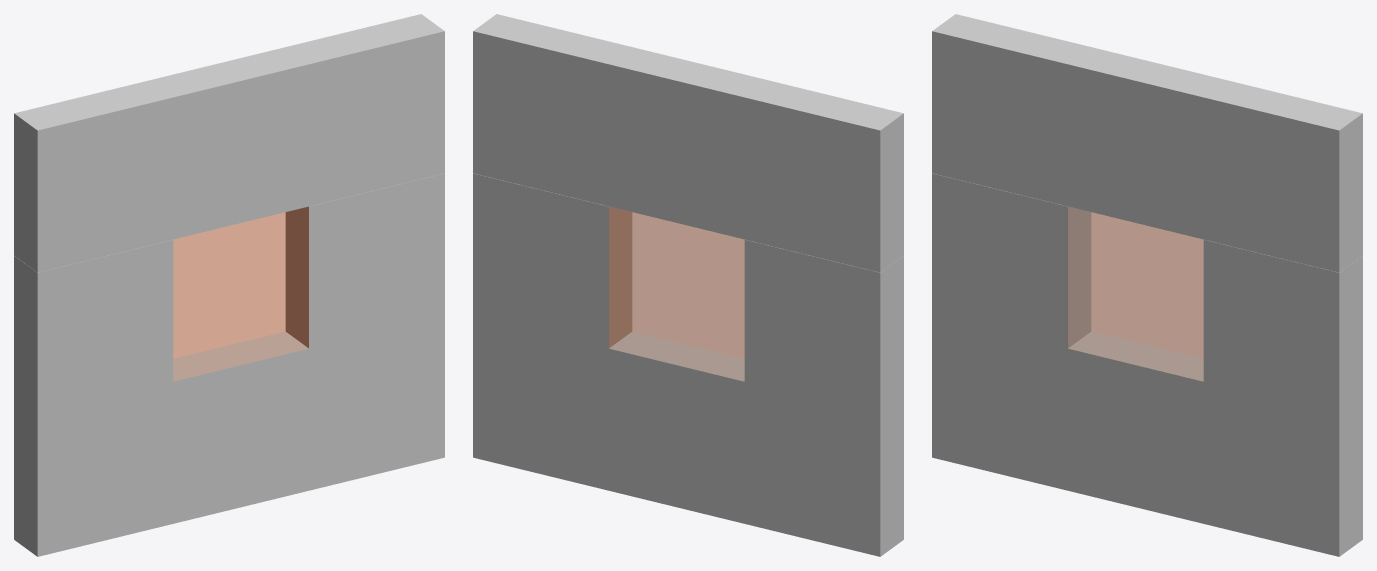
File: glass-voice-2.glb
3 views of the same model, side by side, from view 1: azimuth 30°, elevation 25°; view 2: azimuth 150°, elevation 25°; view 3: azimuth 330°, elevation 25° (orthographic).
Parts seen in each view (by area): view 1: Cube01, Cube04, Cube07, Cube06, Cube02, Cube03, Cube08, Cube09, Cube05; view 2: Cube01, Cube04, Cube07, Cube06, Cube02, Cube03, Cube08, Cube09, Cube05; view 3: Cube03, Cube06, Cube09, Cube02, Cube04, Cube01, Cube08, Cube07, Cube05.
Boxes of the visible parts, box(x1,y1,x2,y2) form: Cube01: box(14, 80, 173, 272); Cube04: box(14, 239, 173, 414); Cube07: box(14, 382, 173, 556); Cube06: box(285, 173, 444, 348); Cube02: box(150, 47, 308, 239); Cube03: box(286, 14, 444, 206); Cube08: box(173, 331, 308, 523); Cube09: box(309, 315, 444, 490); Cube05: box(173, 206, 308, 380); Cube01: box(744, 80, 903, 272); Cube04: box(744, 239, 903, 414); Cube07: box(744, 382, 903, 556); Cube06: box(473, 173, 632, 348); Cube02: box(609, 47, 767, 239); Cube03: box(473, 14, 631, 206); Cube08: box(609, 331, 744, 523); Cube09: box(473, 315, 608, 490); Cube05: box(609, 206, 744, 380); Cube03: box(1203, 80, 1362, 272); Cube06: box(1203, 239, 1362, 414); Cube09: box(1203, 382, 1362, 556); Cube02: box(1067, 47, 1226, 239); Cube04: box(932, 173, 1091, 348); Cube01: box(932, 14, 1090, 206); Cube08: box(1067, 331, 1203, 523); Cube07: box(932, 315, 1067, 490); Cube05: box(1068, 207, 1203, 381).
Size of the model in its own units: 6 by 6 by 0.6.
